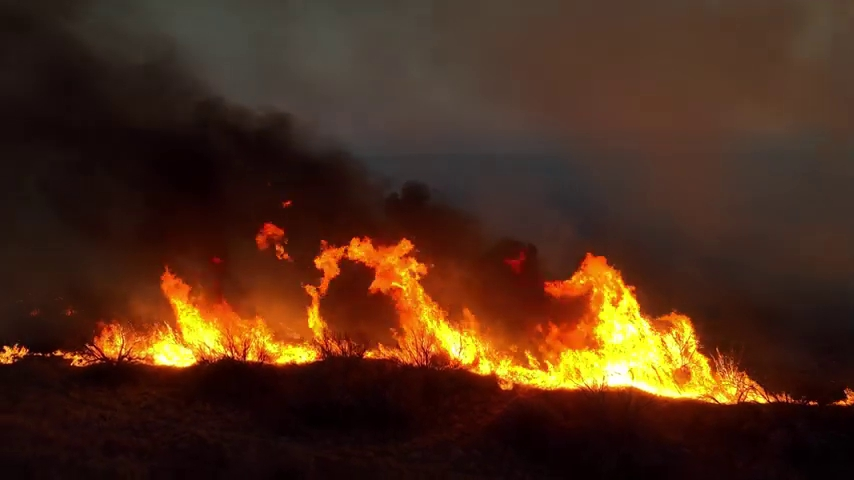forest_fire: (51, 237, 785, 402), (256, 222, 289, 258), (0, 345, 31, 363), (836, 390, 853, 404), (513, 267, 514, 270)
